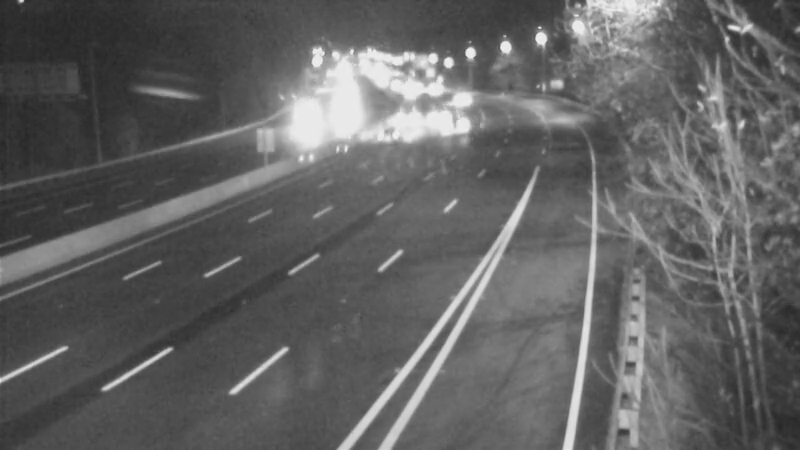vehicle: (431, 75, 481, 125), (405, 90, 455, 140), (433, 99, 483, 149), (385, 92, 435, 142), (363, 105, 413, 155), (278, 100, 328, 150), (324, 89, 374, 139)
